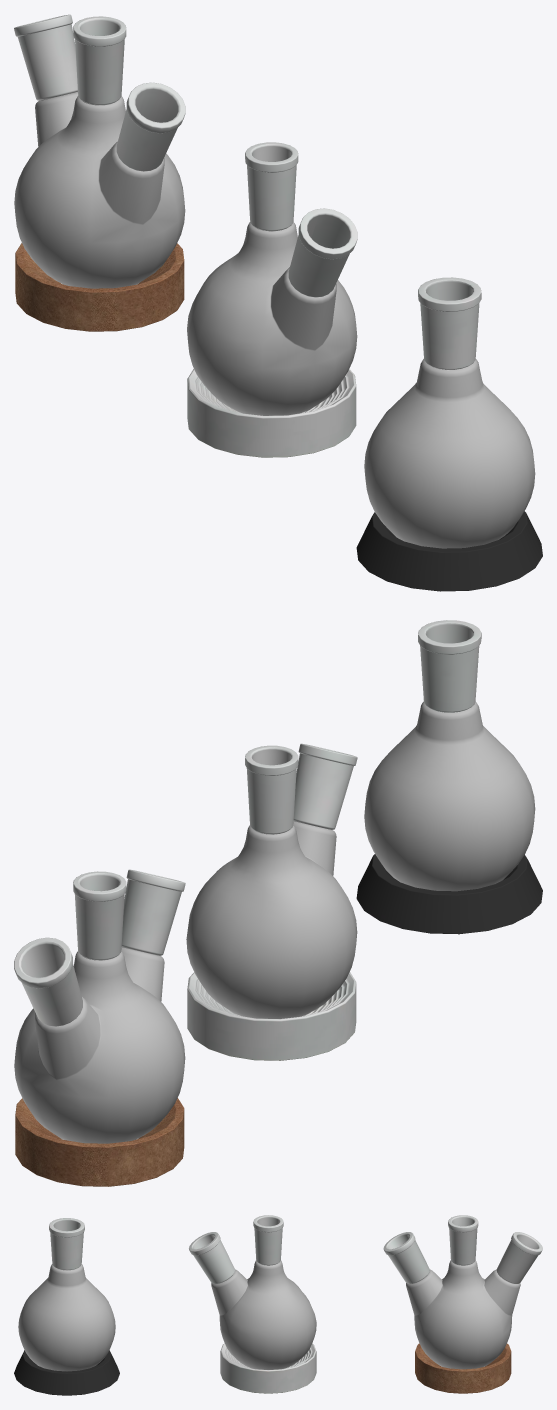
Rendered from lab_round_bottom_flasks.glb.
3 views of the same model, one above another, from view 1: azimuth 30°, elevation 25°; view 2: azimuth 150°, elevation 25°; view 3: azimuth 270°, elevation 25° (orthographic). The views are drawn at different scales.
Visible parts, largest first — view 1: BalaoFundoRedondo_3Bocas, BalaoFundoRedondo_2Bocas, BalaoFundoRedondo_1Boca, BalaoFundoRedondo_3Bocas.003, BalaoFundoRedondo_3Bocas.001, BalaoFundoRedondo_3Bocas.002; view 2: BalaoFundoRedondo_3Bocas, BalaoFundoRedondo_2Bocas, BalaoFundoRedondo_1Boca, BalaoFundoRedondo_3Bocas.003, BalaoFundoRedondo_3Bocas.001, BalaoFundoRedondo_3Bocas.002; view 3: BalaoFundoRedondo_3Bocas, BalaoFundoRedondo_2Bocas, BalaoFundoRedondo_1Boca, BalaoFundoRedondo_3Bocas.003, BalaoFundoRedondo_3Bocas.001, BalaoFundoRedondo_3Bocas.002.
Part boxes in pixels (bbox=[...]): BalaoFundoRedondo_3Bocas: bbox=[14, 14, 185, 288]; BalaoFundoRedondo_2Bocas: bbox=[187, 142, 357, 415]; BalaoFundoRedondo_1Boca: bbox=[364, 277, 535, 548]; BalaoFundoRedondo_3Bocas.003: bbox=[356, 511, 542, 591]; BalaoFundoRedondo_3Bocas.001: bbox=[15, 243, 184, 331]; BalaoFundoRedondo_3Bocas.002: bbox=[187, 369, 356, 457]; BalaoFundoRedondo_3Bocas: bbox=[14, 869, 185, 1143]; BalaoFundoRedondo_2Bocas: bbox=[186, 743, 357, 1018]; BalaoFundoRedondo_1Boca: bbox=[364, 620, 535, 891]; BalaoFundoRedondo_3Bocas.003: bbox=[356, 854, 542, 934]; BalaoFundoRedondo_3Bocas.001: bbox=[15, 1098, 184, 1186]; BalaoFundoRedondo_3Bocas.002: bbox=[187, 972, 356, 1060]; BalaoFundoRedondo_3Bocas: bbox=[383, 1215, 542, 1369]; BalaoFundoRedondo_2Bocas: bbox=[189, 1215, 316, 1369]; BalaoFundoRedondo_1Boca: bbox=[18, 1218, 115, 1371]; BalaoFundoRedondo_3Bocas.003: bbox=[14, 1350, 119, 1395]; BalaoFundoRedondo_3Bocas.001: bbox=[415, 1343, 511, 1393]; BalaoFundoRedondo_3Bocas.002: bbox=[220, 1343, 316, 1393].
Bounding box in the file's own units: 0.1087 × 0.1723 × 0.5418.
Materials: 3 (3 with a texture image).
